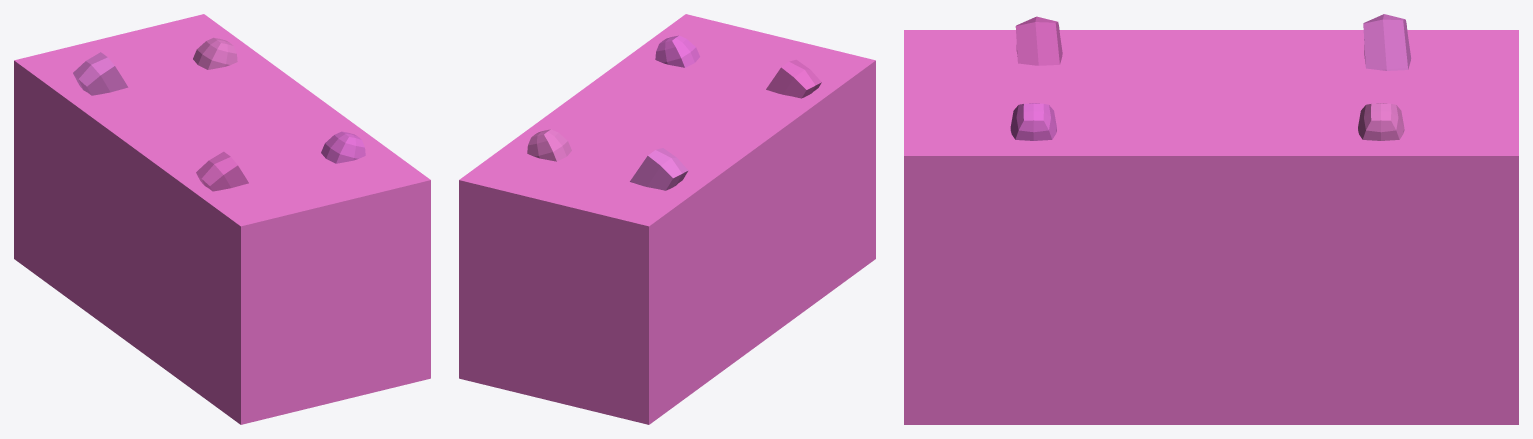
Rendered from pigger.glb.
3 views of the same model, side by side, from view 1: azimuth 30°, elevation 25°; view 2: azimuth 150°, elevation 25°; view 3: azimuth 270°, elevation 25° (orthographic). The views are drawn at different scales.
Visible parts, largest first — view 1: Cube, Cube.002, Cube.006, Cube.004, Cube.005; view 2: Cube, Cube.002, Cube.006, Cube.005, Cube.004; view 3: Cube, Cube.002, Cube.006, Cube.005, Cube.004.
Boxes of the visible parts, <box> form: Cube: <box>14,14,430,424</box>; Cube.002: <box>73,52,128,95</box>; Cube.006: <box>196,151,248,191</box>; Cube.004: <box>193,37,237,69</box>; Cube.005: <box>321,131,365,163</box>; Cube: <box>459,14,875,424</box>; Cube.002: <box>630,148,688,190</box>; Cube.006: <box>766,59,821,98</box>; Cube.005: <box>655,35,699,67</box>; Cube.004: <box>527,129,571,161</box>; Cube: <box>904,30,1518,424</box>; Cube.002: <box>1363,14,1411,70</box>; Cube.006: <box>1015,16,1062,65</box>; Cube.005: <box>1010,103,1056,140</box>; Cube.004: <box>1358,103,1404,140</box>.
Size of the model in its own units: 2 by 2.29 by 4.13.
